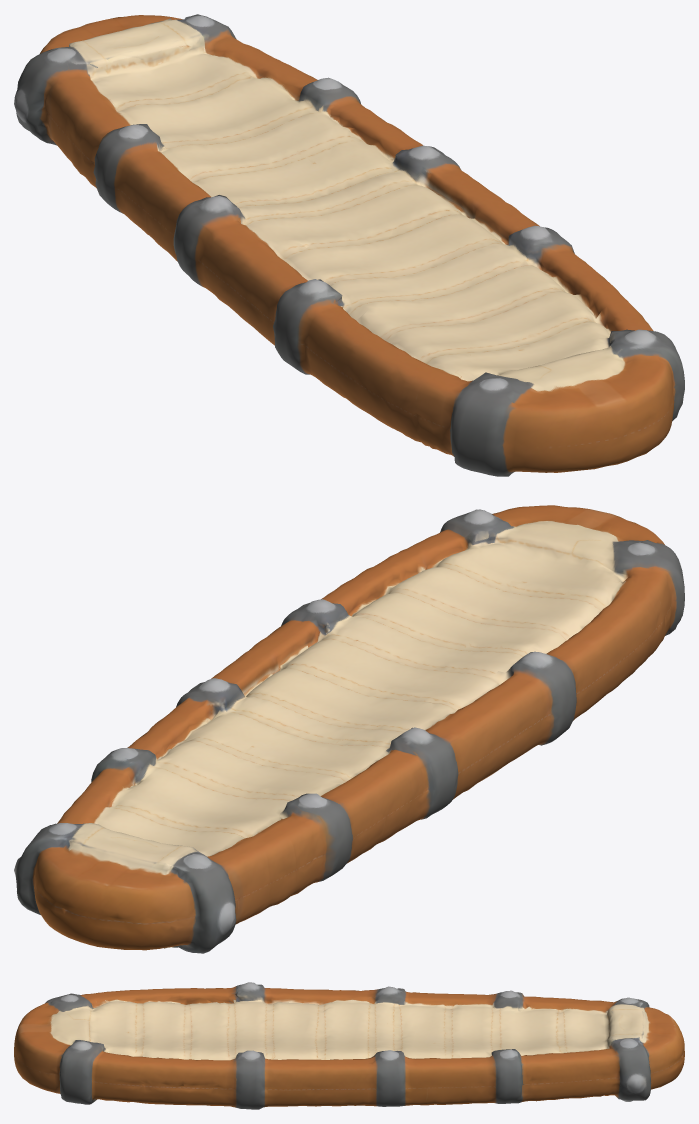
The model's file is FlightRaft_Wing.fbx.
The picture shows the model from 3 angles, top to bottom: view 1: azimuth 30°, elevation 25°; view 2: azimuth 150°, elevation 25°; view 3: azimuth 270°, elevation 25°; orthographic projection. The views are drawn at different scales.
Parts seen in each view (by area): view 1: texture_mapping; view 2: texture_mapping; view 3: texture_mapping.
Boxes of the visible parts, x1,y1,x2,y2 form: texture_mapping: [14, 14, 684, 476]; texture_mapping: [14, 505, 684, 953]; texture_mapping: [14, 982, 684, 1109].
Bounding box in the file's own units: 0.3148 × 0.9996 × 0.0999.
Materials: 1 (1 with a texture image).
